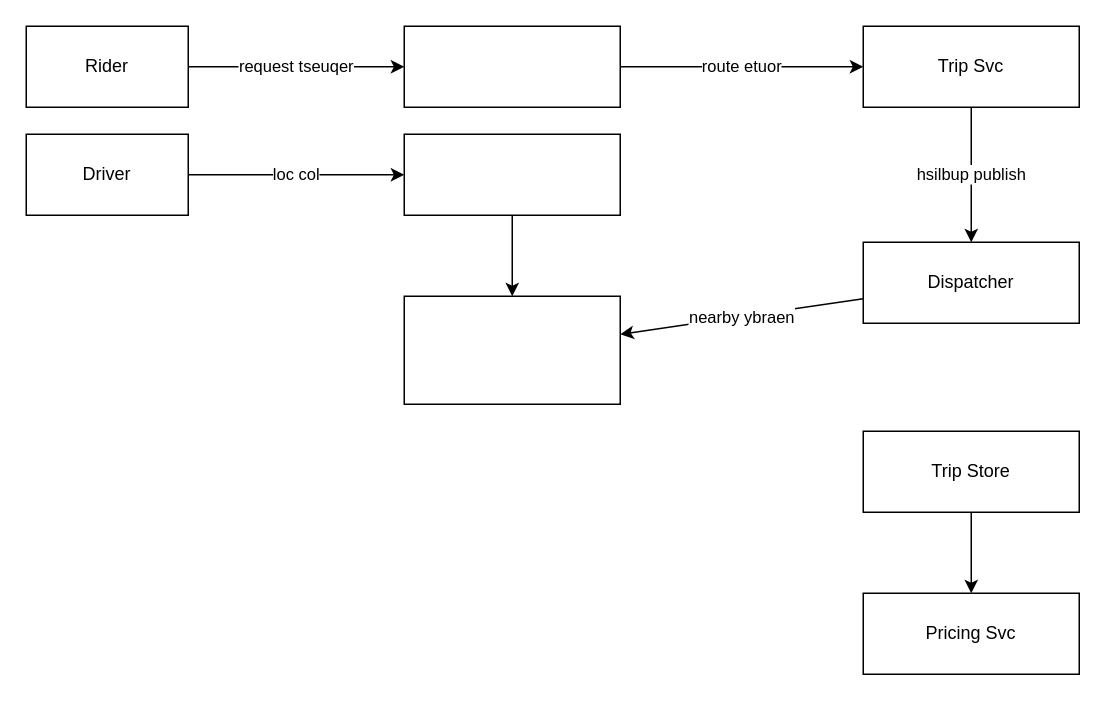
The diagram is 1106 pixels wide and 701 high, and some of its shapes have lost their labels. Here are the shapes that lost their labels. From the top down, the centre of each, then its label:
At point (511, 66): "API Gateway".
At point (511, 174): "Loc Tracker".
At point (511, 349): "Geo Index (QuadTree)".
